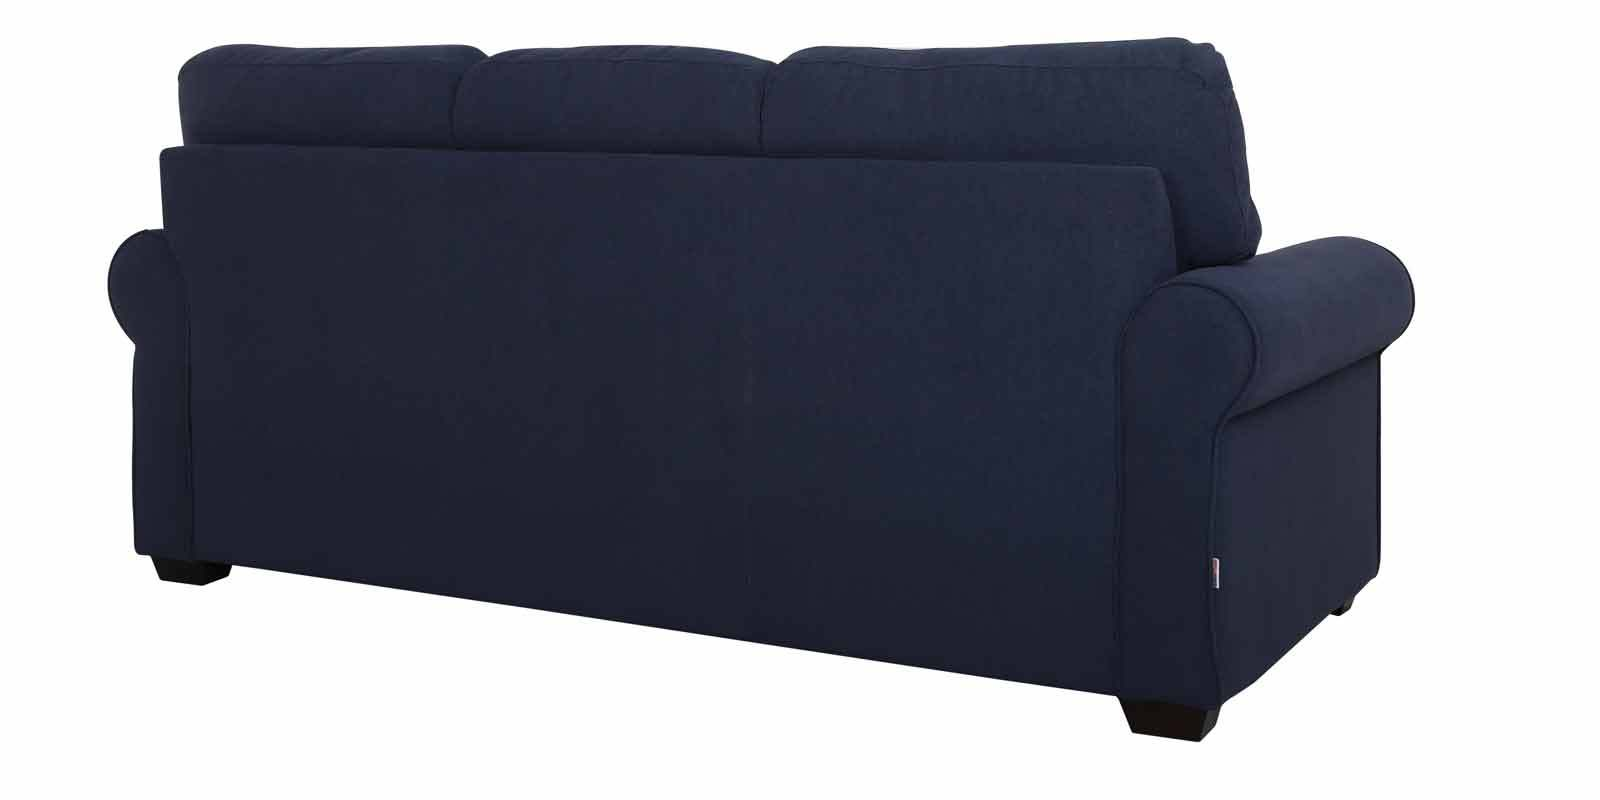Madeira Three Seater Sofa in Navy Blue Colour by CasaCraft: (107, 34, 1416, 742)
